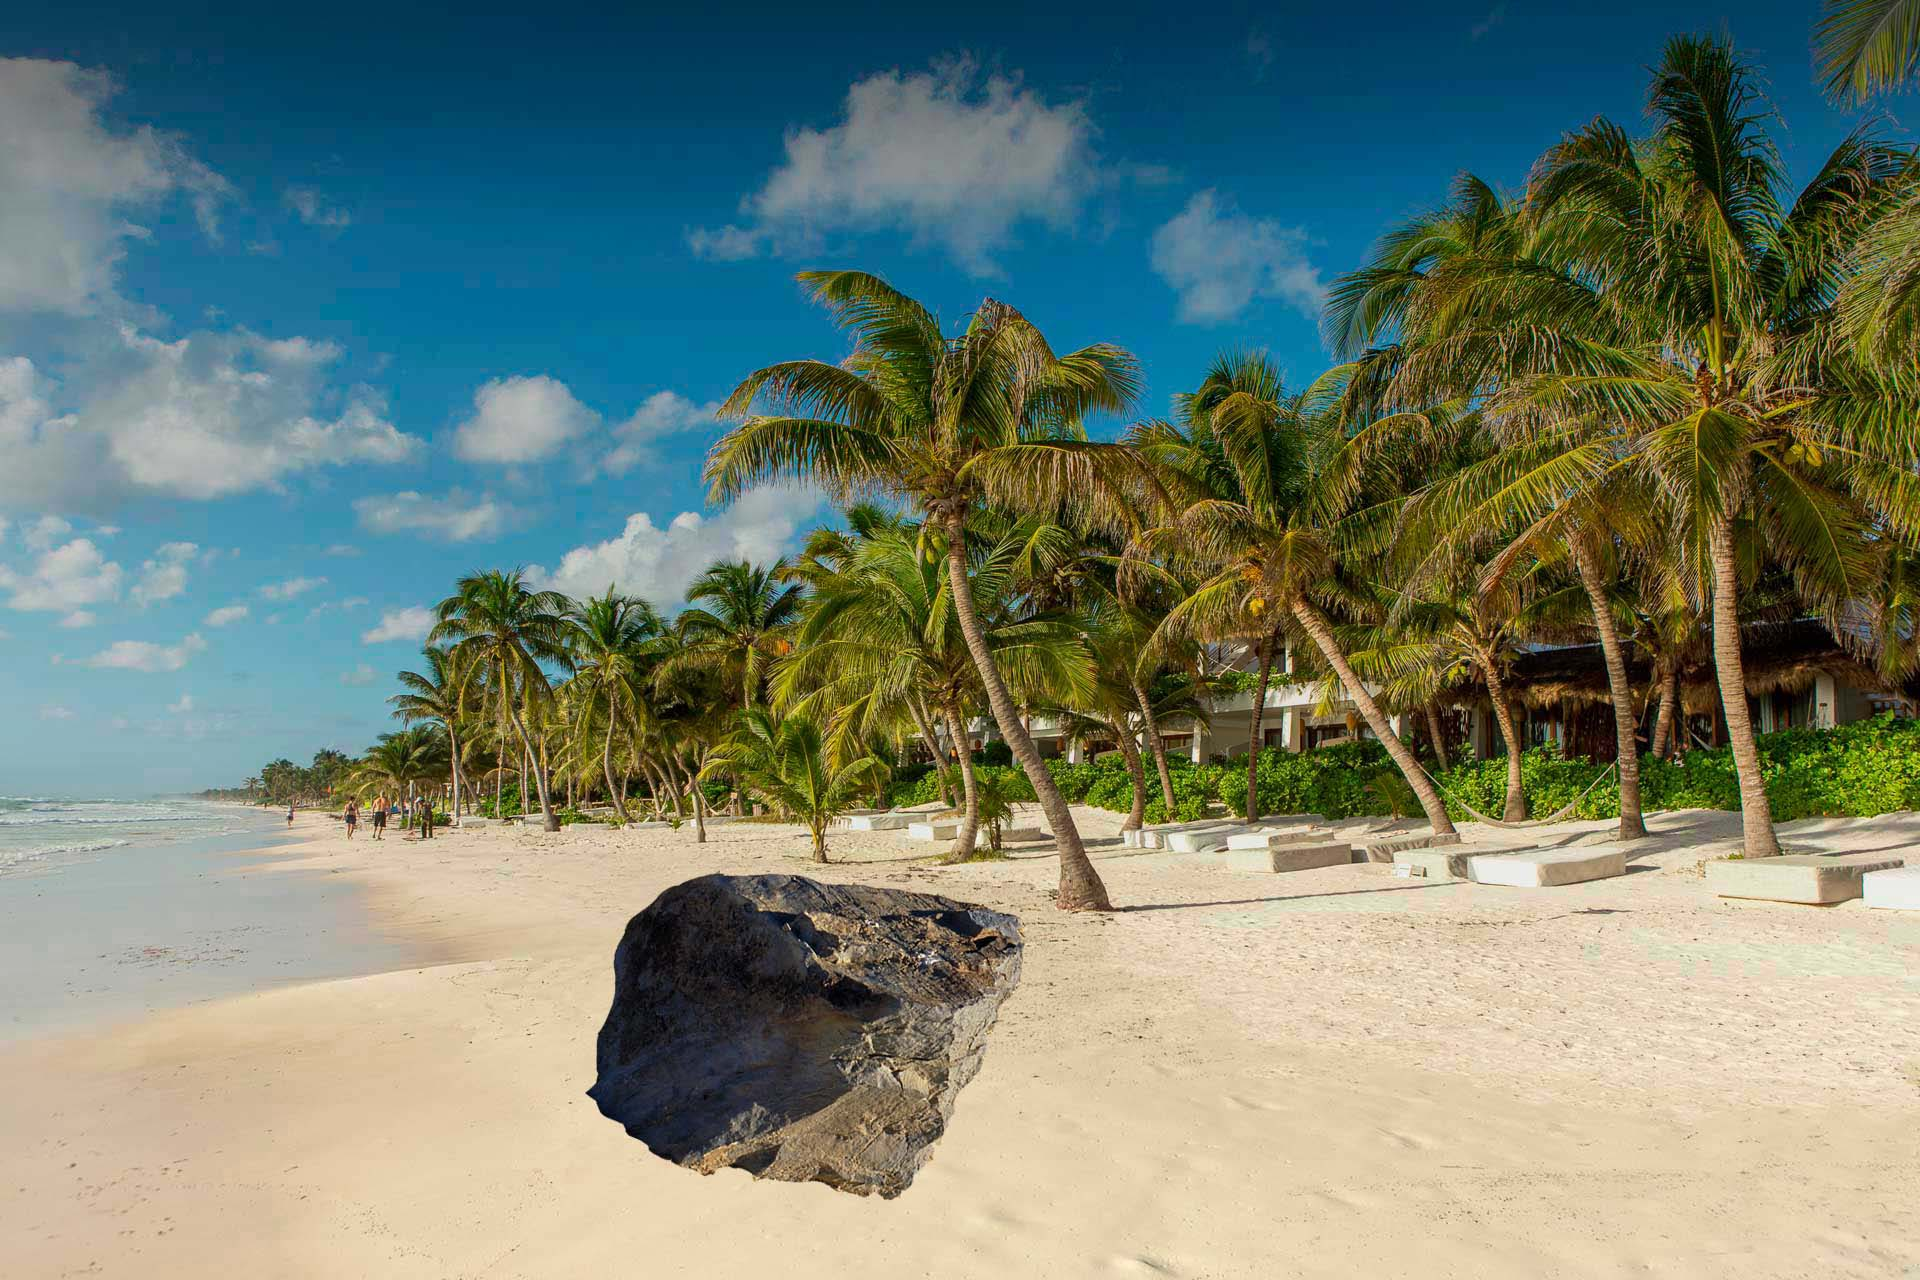Rocks: (573, 844, 1037, 1219)
